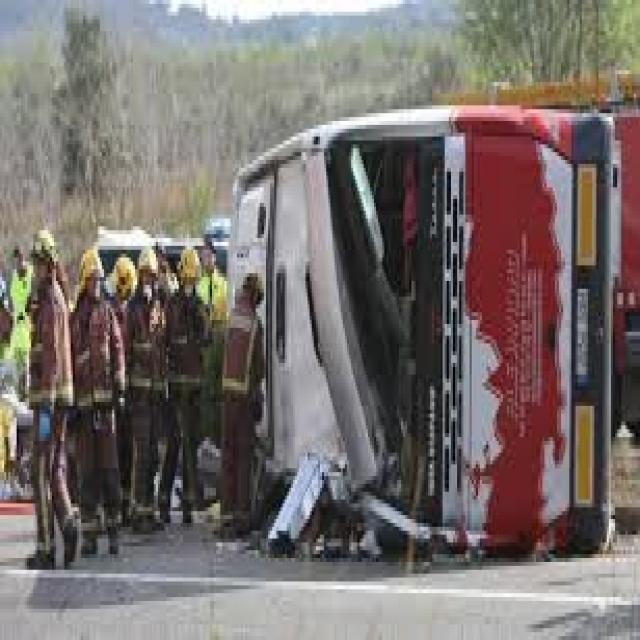accident: (133, 94, 640, 582)
